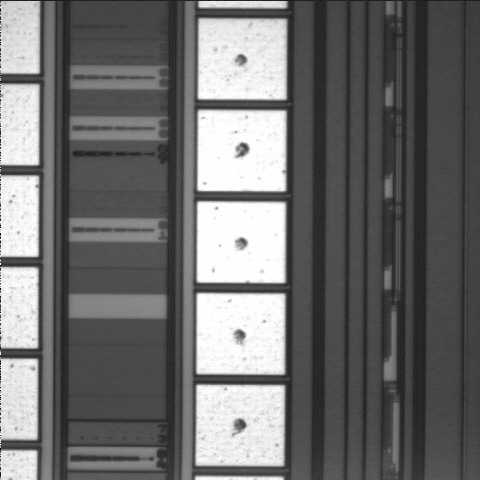pad: (197, 201, 286, 283), (196, 293, 285, 375), (198, 19, 287, 100), (197, 110, 286, 191), (196, 385, 285, 466)
